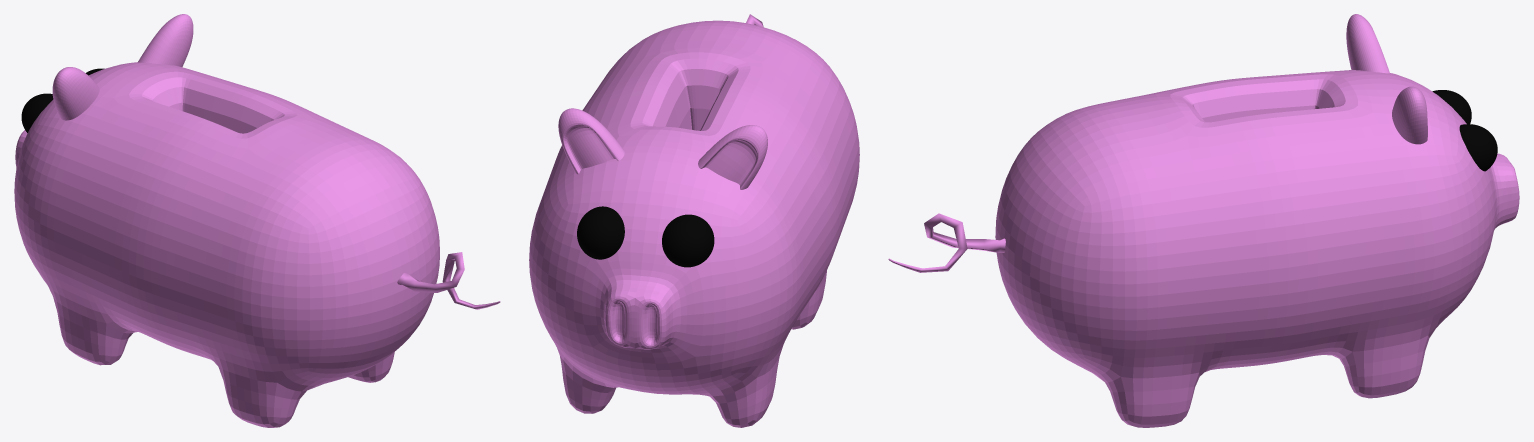
File: lab6 xr1.glb
3 renders of one model, left to right at view 1: azimuth 30°, elevation 25°; view 2: azimuth 150°, elevation 25°; view 3: azimuth 270°, elevation 25°, orthographic. The views are drawn at different scales.
Parts seen in each view (by area): view 1: BézierCurve; view 2: BézierCurve; view 3: BézierCurve.
Part boxes in pixels (box(x1,y1,x2,y2)): BézierCurve: box(14, 14, 500, 427); BézierCurve: box(529, 14, 859, 427); BézierCurve: box(888, 14, 1519, 427).
Bounding box in the file's own units: 0.5562 × 0.5352 × 0.9975.
